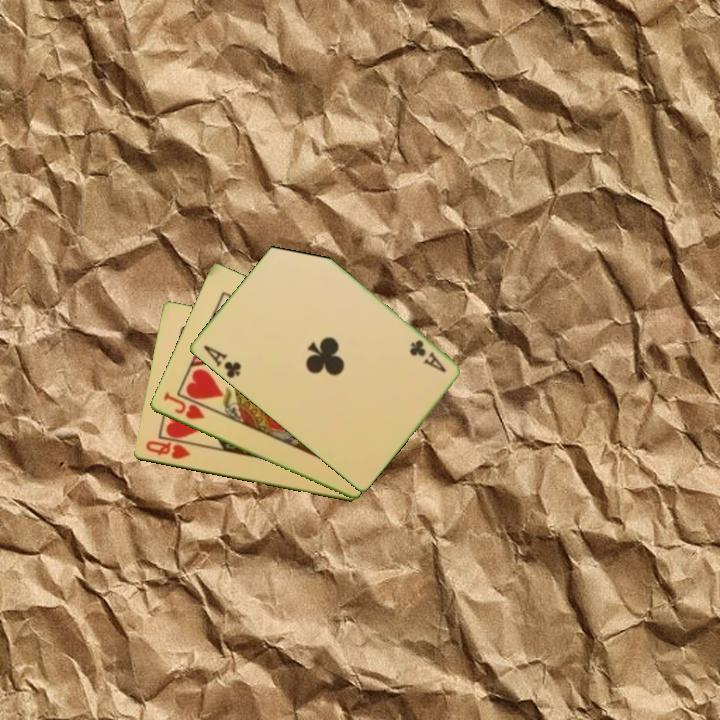Ac: (405, 336, 449, 376), (200, 342, 244, 381)
Jh: (159, 389, 208, 423)
Qh: (142, 437, 193, 462)
